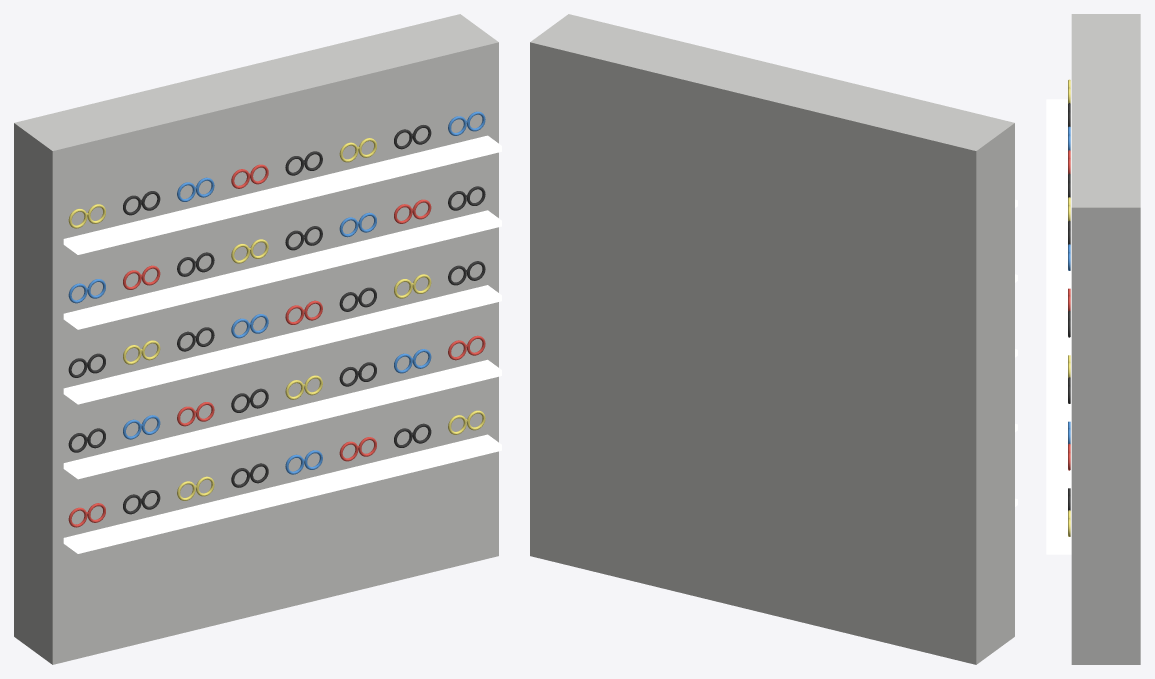
Rendered from glasses_wall.glb.
3 views of the same model, side by side, from view 1: azimuth 30°, elevation 25°; view 2: azimuth 150°, elevation 25°; view 3: azimuth 270°, elevation 25° (orthographic). The views are drawn at different scales.
Parts seen in each view (by area): view 1: glasses_wall; view 2: glasses_wall; view 3: glasses_wall.
Part boxes in pixels (left/top/right/bottom): glasses_wall: left=14, top=14, right=501, bottom=664; glasses_wall: left=530, top=14, right=1017, bottom=664; glasses_wall: left=1046, top=14, right=1140, bottom=664.
Bounding box in the file's own units: 2 × 2.2 × 0.41.
